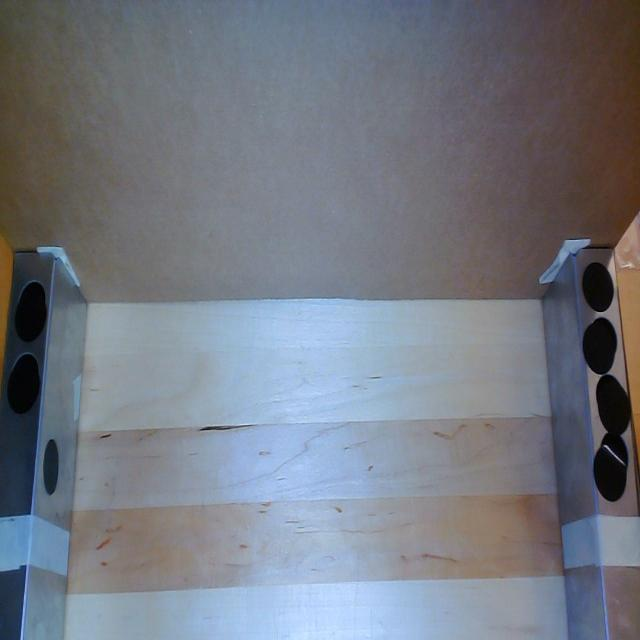Hole: (12, 353, 40, 398), (601, 433, 628, 479), (590, 317, 618, 361), (596, 375, 622, 419), (19, 281, 44, 320)
Sticker: (593, 444, 626, 502), (598, 381, 631, 435), (7, 363, 40, 414), (583, 322, 615, 374), (15, 292, 47, 342), (583, 261, 614, 312), (42, 438, 60, 496)
